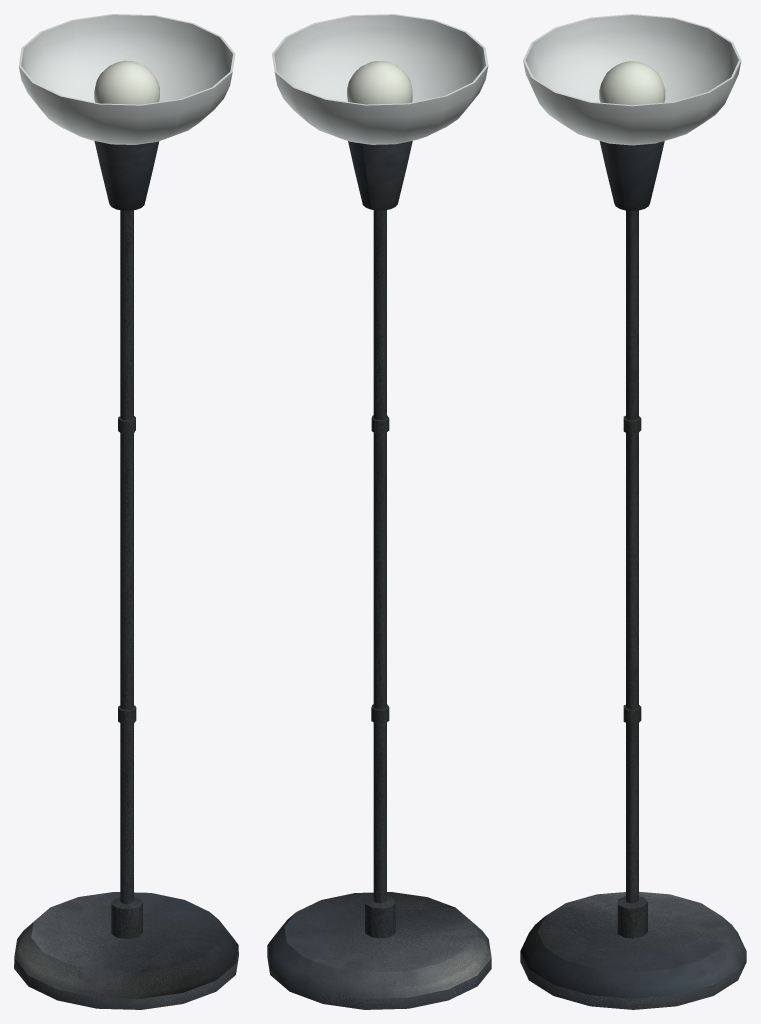
The model's file is Lamp.fbx.
The picture shows the model from 3 angles, left to right: view 1: azimuth 30°, elevation 25°; view 2: azimuth 150°, elevation 25°; view 3: azimuth 270°, elevation 25°; orthographic projection.
Visible parts, largest first — view 1: polySurface1251; view 2: polySurface1251; view 3: polySurface1251.
Part boxes in pixels (box(x1,y1,x2,y2)): polySurface1251: box(14, 14, 238, 1009); polySurface1251: box(267, 14, 491, 1009); polySurface1251: box(520, 14, 746, 1009).
Size of the model in its own units: 0.3732 by 1.64 by 0.3732.
Materials: 1 (1 with a texture image).
